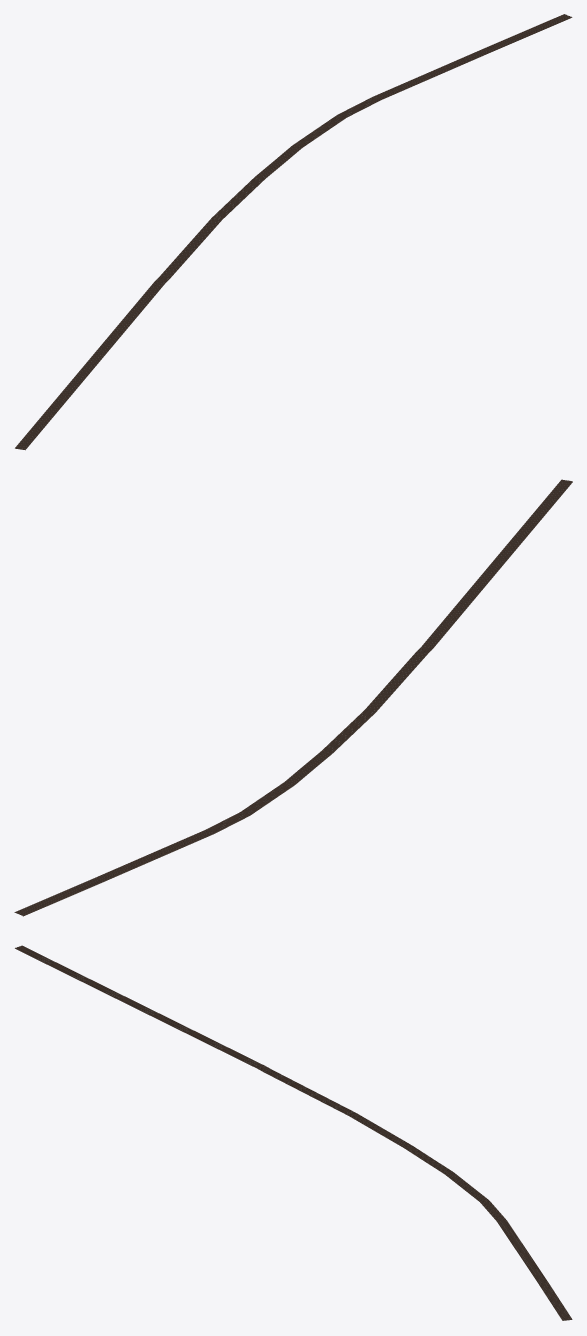
File: kobe_0041.glb
3 renders of one model, top to bottom at view 1: azimuth 30°, elevation 25°; view 2: azimuth 210°, elevation 25°; view 3: azimuth 270°, elevation 25°, orthographic. The views are drawn at different scales.
Parts seen in each view (by area): view 1: ballast_top, oxidised_rail_profiles; view 2: ballast_top, oxidised_rail_profiles, ballast_left; view 3: ballast_top, oxidised_rail_profiles.
Part boxes in pixels (x1,y1,x2,y2): ballast_top: (15, 14, 572, 450); oxidised_rail_profiles: (16, 14, 571, 449); ballast_top: (14, 479, 571, 915); oxidised_rail_profiles: (15, 480, 570, 914); ballast_left: (23, 481, 572, 916); ballast_top: (15, 945, 572, 1320); oxidised_rail_profiles: (15, 945, 570, 1319).
Size of the model in its own units: 635 by 0.819 by 399.
Materials: 4 (3 with a texture image).
